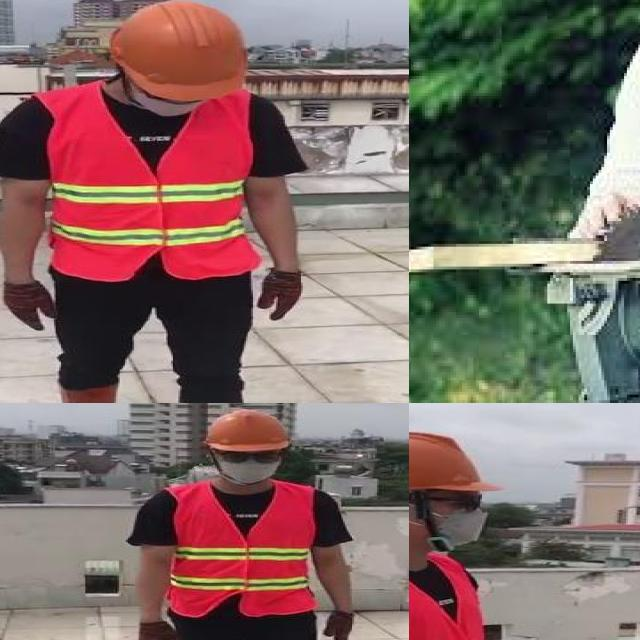face_mask: (426, 488, 495, 542), (210, 448, 284, 482)
glasses: (215, 446, 283, 466)
hand_glove: (0, 281, 58, 331), (258, 270, 304, 320), (323, 610, 353, 640), (133, 622, 181, 640)
head_helmet: (105, 0, 245, 102), (409, 429, 500, 496), (203, 408, 293, 452)
person: (0, 0, 312, 403), (123, 408, 363, 640), (543, 0, 640, 379), (409, 425, 563, 640)
vest: (40, 85, 258, 281), (165, 481, 320, 614)
